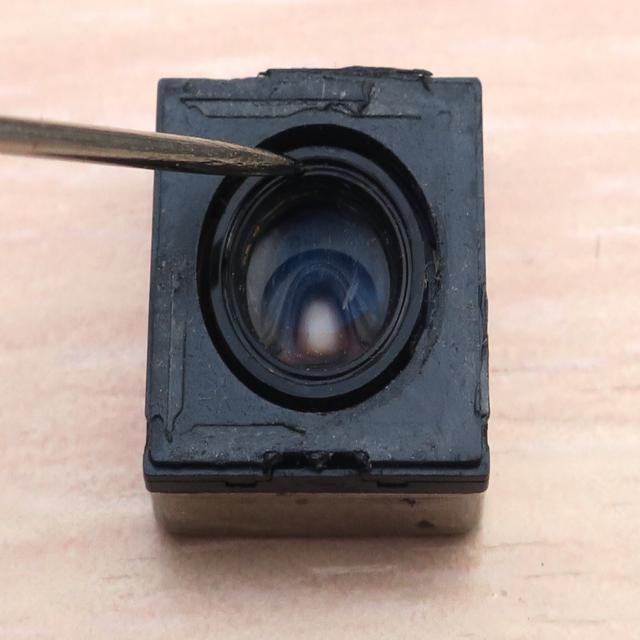hidden camera: (159, 81, 496, 478)
